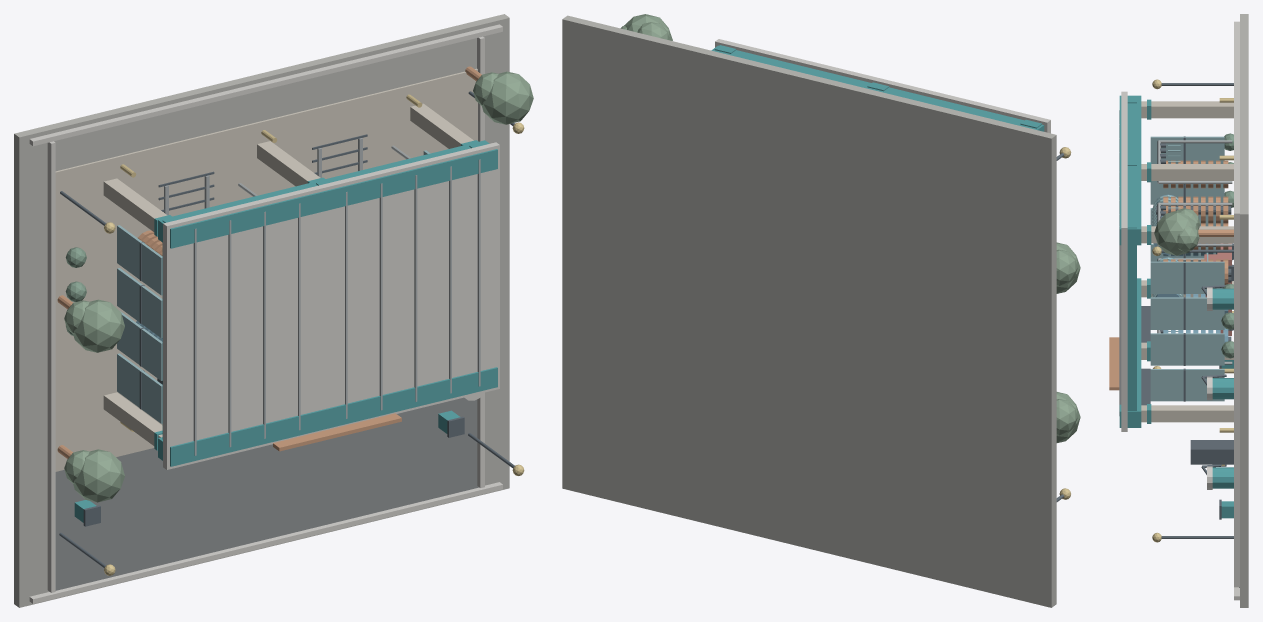
The model's file is car-wash.glb.
3 views of the same model, side by side, from view 1: azimuth 30°, elevation 25°; view 2: azimuth 150°, elevation 25°; view 3: azimuth 270°, elevation 25° (orthographic). The views are drawn at different scales.
Parts seen in each view (by area): view 1: 0024_canopy_top, 0000_concrete_city_tile, 0001_asphalt_entry, 0002_wash_floor, 0023_roof_back_fascia, 0022_roof_front_fascia, 0006_curb, 0003_curb, 0005_curb, 0308_tree_canopy, 0316_tree_canopy, 0312_tree_canopy (+15 smaller); view 2: 0000_concrete_city_tile, 0024_canopy_top, 0023_roof_back_fascia; view 3: 0000_concrete_city_tile, 0023_roof_back_fascia, 0044_side_glass, 0024_canopy_top, 0048_side_glass, 0004_curb, 0046_side_glass, 0042_side_glass, 0021_roof_side_rail, 0040_side_glass, 0015_structural_pillar, 0009_structural_pillar (+25 smaller).
Boxes of the visible parts, box(x1,y1,x2,y2) form: 0024_canopy_top: box(163, 142, 499, 469); 0000_concrete_city_tile: box(14, 14, 509, 607); 0001_asphalt_entry: box(55, 397, 478, 590); 0002_wash_floor: box(55, 68, 477, 471); 0023_roof_back_fascia: box(158, 140, 497, 248); 0022_roof_front_fascia: box(158, 367, 497, 466); 0006_curb: box(29, 24, 502, 146); 0003_curb: box(47, 141, 55, 592); 0005_curb: box(29, 482, 502, 603); 0308_tree_canopy: box(73, 299, 124, 352); 0316_tree_canopy: box(73, 449, 124, 502); 0312_tree_canopy: box(482, 71, 533, 124); 0000_concrete_city_tile: box(562, 15, 1056, 607); 0024_canopy_top: box(715, 39, 1050, 133); 0023_roof_back_fascia: box(711, 45, 1044, 131); 0000_concrete_city_tile: box(1240, 14, 1248, 607); 0023_roof_back_fascia: box(1119, 95, 1141, 245); 0044_side_glass: box(1150, 333, 1224, 365); 0024_canopy_top: box(1121, 91, 1127, 431); 0048_side_glass: box(1150, 261, 1224, 293); 0004_curb: box(1234, 217, 1239, 587); 0046_side_glass: box(1150, 297, 1224, 329); 0042_side_glass: box(1150, 369, 1224, 401); 0021_roof_side_rail: box(1127, 221, 1136, 410); 0040_side_glass: box(1150, 136, 1224, 163); 0015_structural_pillar: box(1141, 405, 1233, 422); 0009_structural_pillar: box(1141, 101, 1233, 118).
Size of the model in its own units: 24 by 22 by 7.06.
